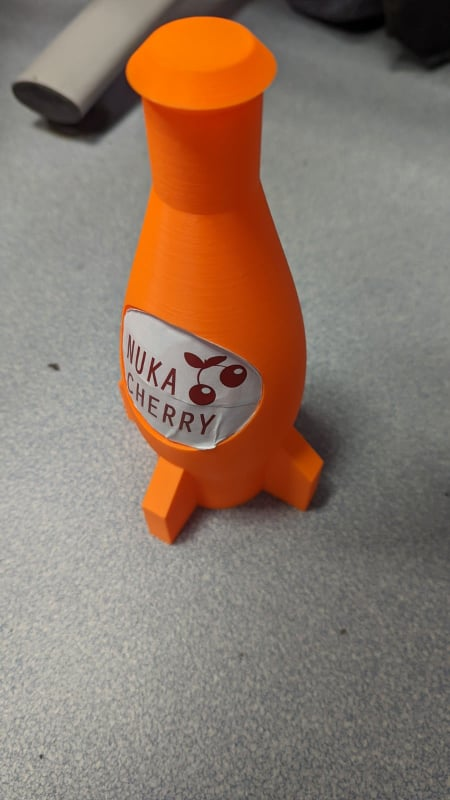bottle: (90, 17, 337, 556)
